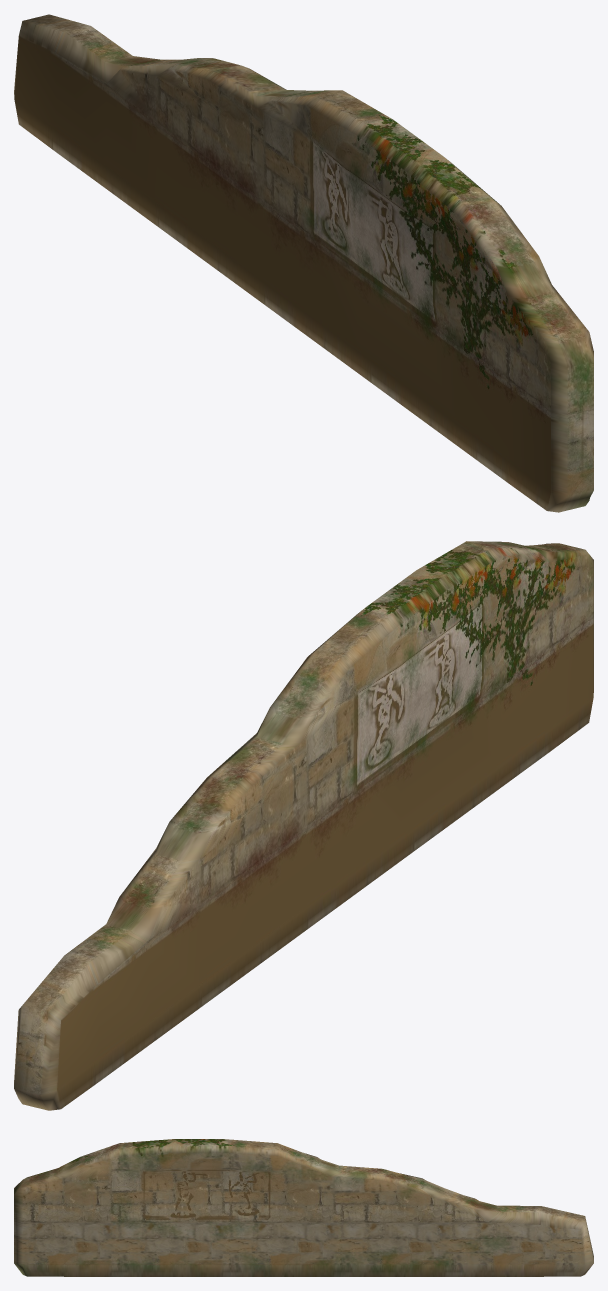
The picture shows the model from 3 angles, top to bottom: view 1: azimuth 30°, elevation 25°; view 2: azimuth 150°, elevation 25°; view 3: azimuth 270°, elevation 25°; orthographic projection. The views are drawn at different scales.
Visible parts, largest first — view 1: defaultMaterial.001; view 2: defaultMaterial.001; view 3: defaultMaterial.001.
Boxes of the visible parts, left/top/right/bottom form: defaultMaterial.001: left=14, top=14, right=593, bottom=512; defaultMaterial.001: left=14, top=541, right=593, bottom=1110; defaultMaterial.001: left=14, top=1139, right=593, bottom=1276.
Size of the model in its own units: 2.06 by 9.61 by 39.13.
Materials: 1 (1 with a texture image).
